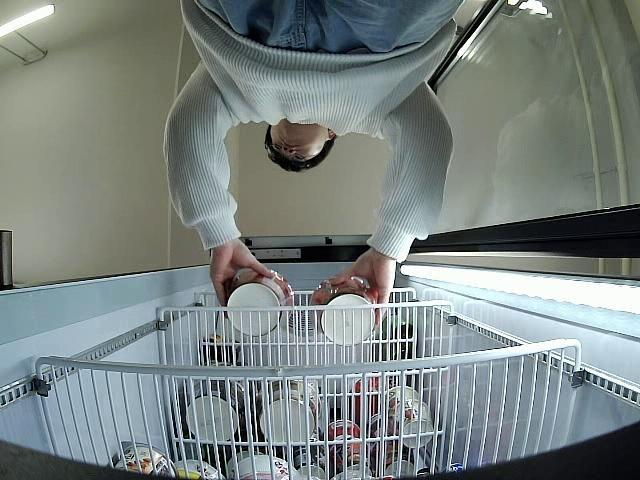01_ShinRamen_L: (305, 276, 377, 347), (223, 269, 296, 338)
